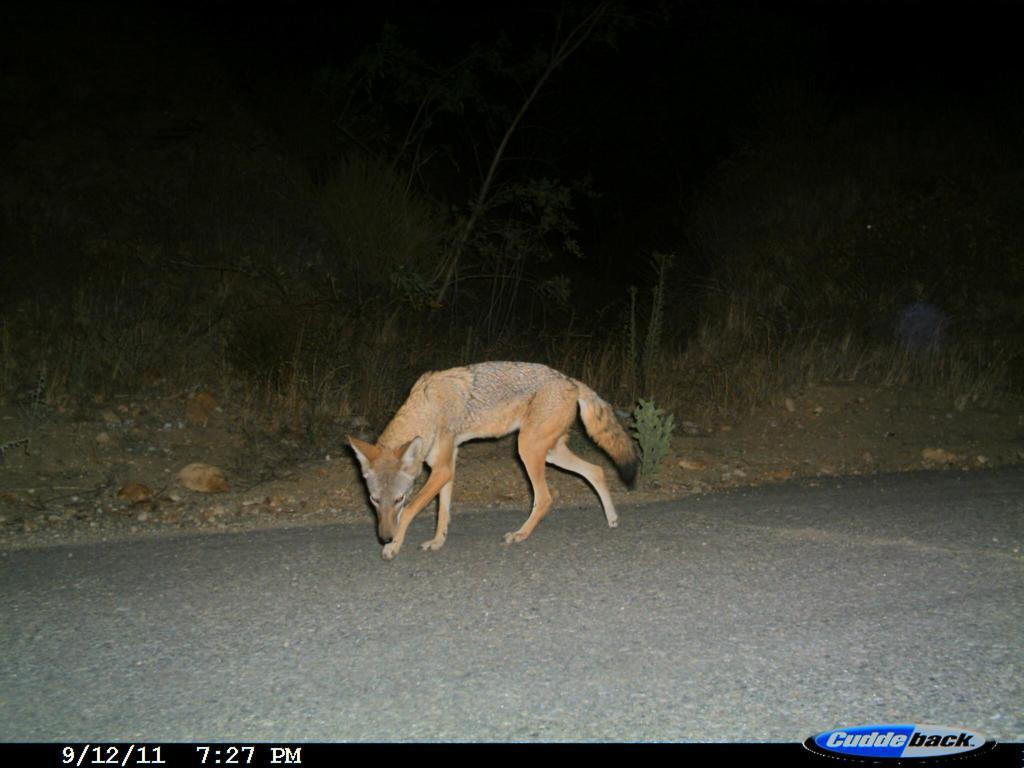coyote: (333, 355, 648, 570)
